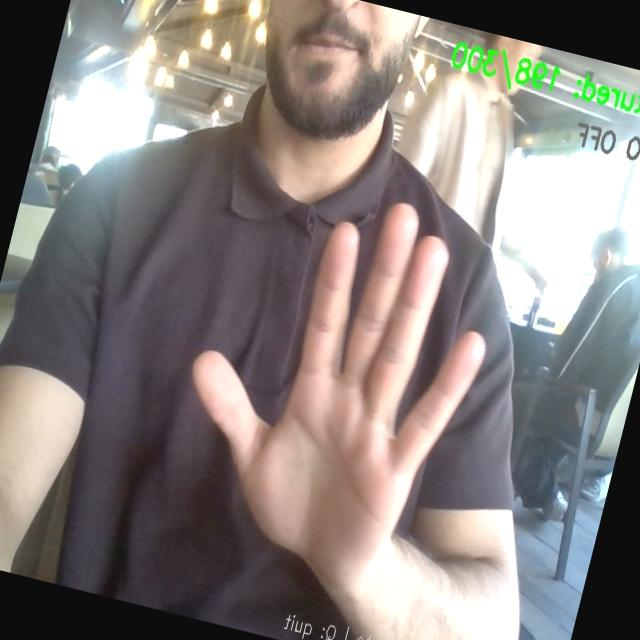Hand: (193, 204, 484, 585)
